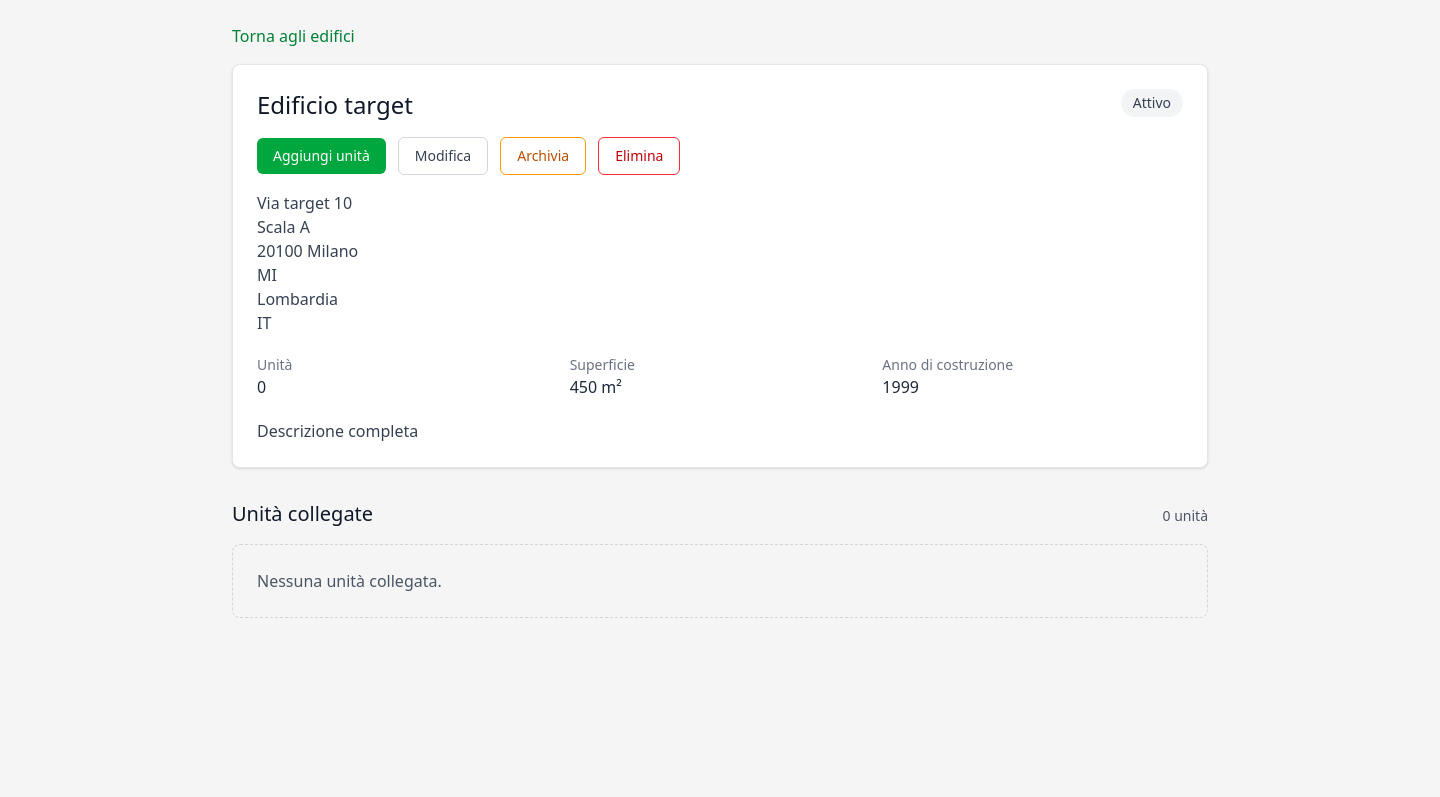
Test: A6.3 Building edit › blocca un identificativo appartenente a un altro Building senza update parziale
Click the button "Modifica".
click(443, 156)  # box [398, 137, 488, 175]
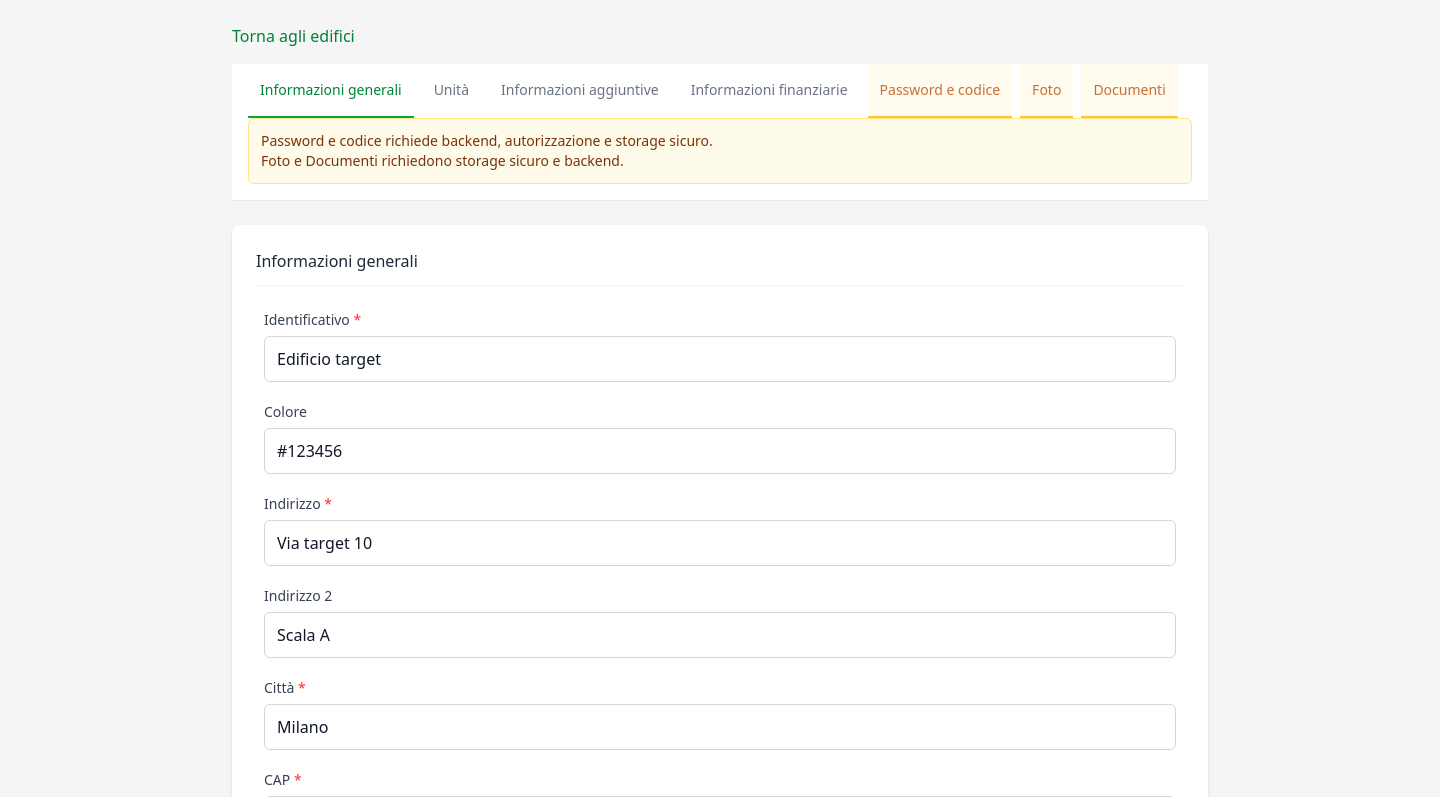
Replace the text in the field with id "identifier" with "Identificativo occupato" at (720, 359), box [264, 336, 1176, 382]
(page scrolled)
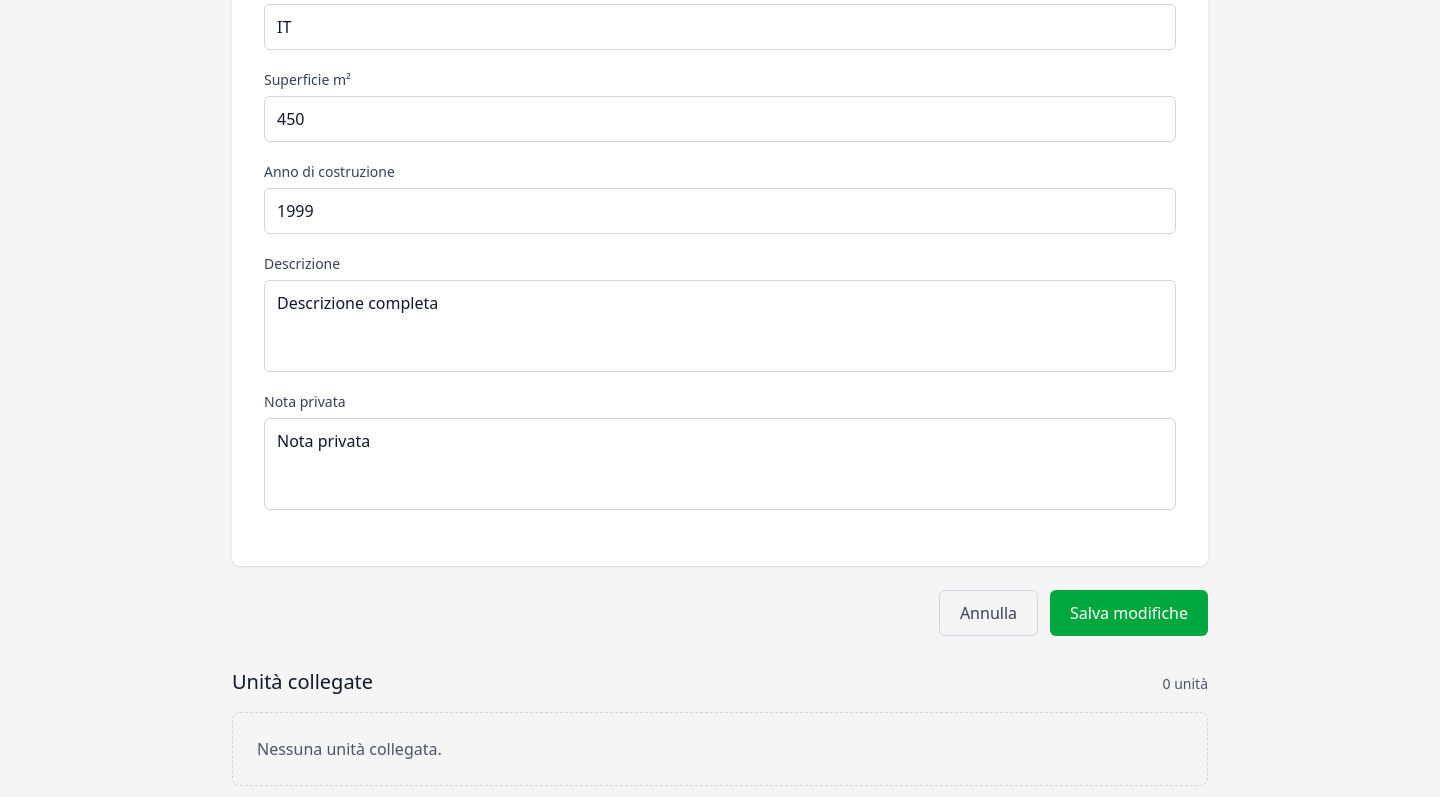
Click the button "Salva modifiche".
click(1129, 613)  # box [1050, 590, 1208, 636]
(page scrolled)
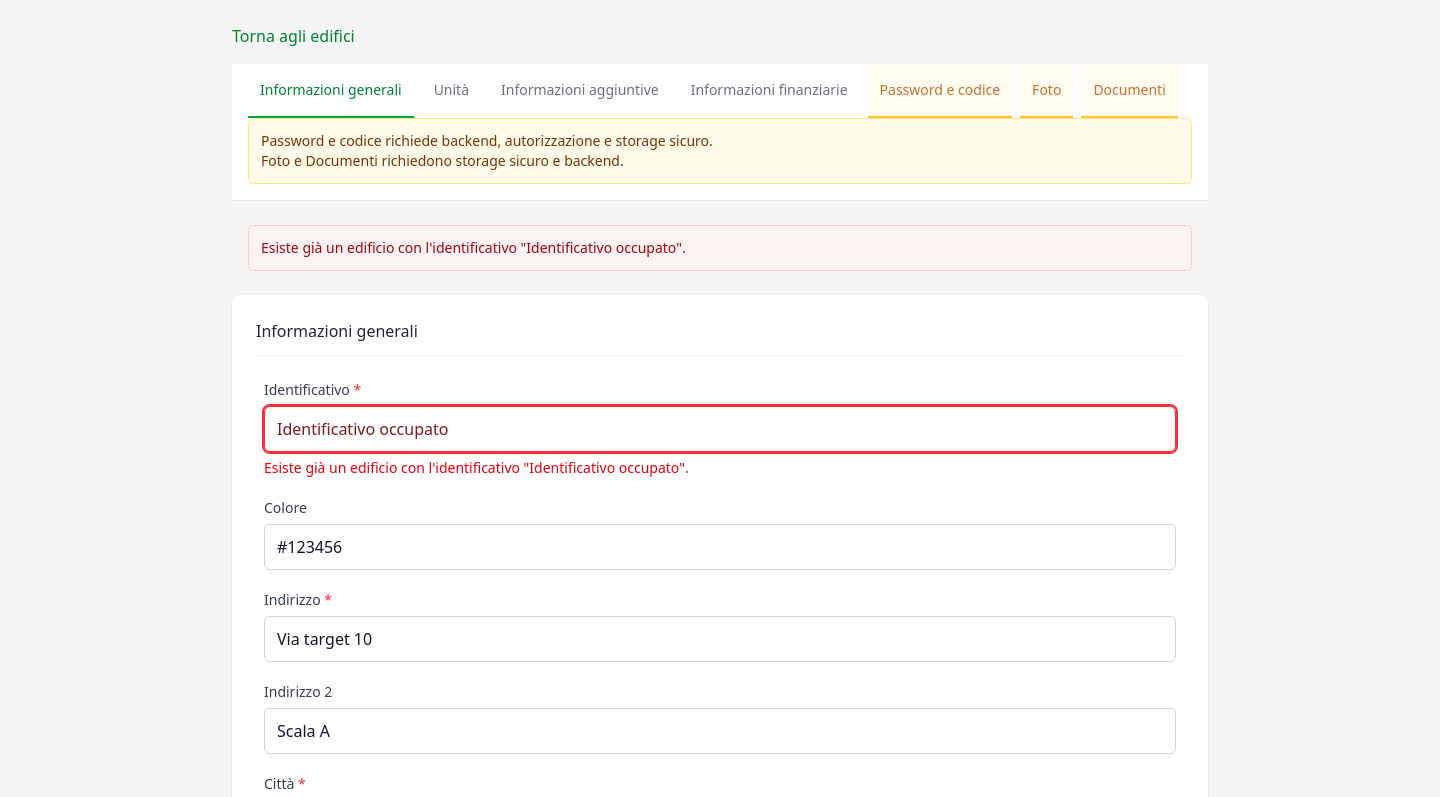
expect the message "Esiste già un edificio con l'identificativo \"Identificativo occupato\"." is shown: met, box [248, 225, 1192, 271]
